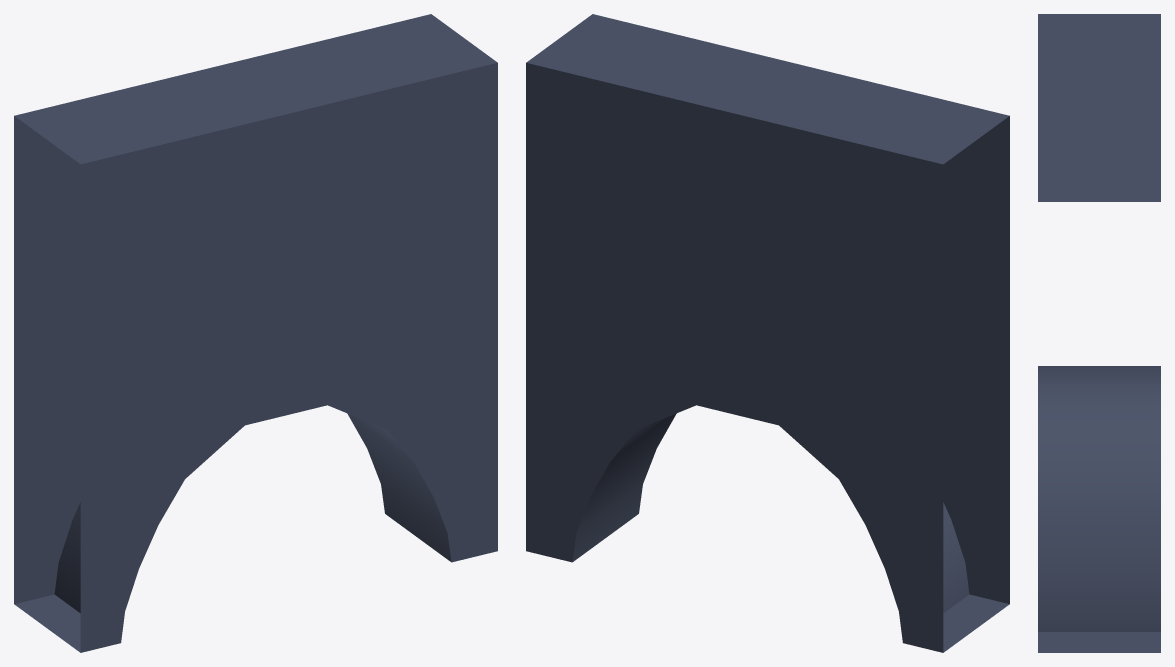
The model's file is Mur_modulaire.fbx.
3 views of the same model, side by side, from view 1: azimuth 30°, elevation 25°; view 2: azimuth 150°, elevation 25°; view 3: azimuth 270°, elevation 25° (orthographic). The views are drawn at different scales.
Parts seen in each view (by area): view 1: Mur_loop_export.001; view 2: Mur_loop_export.001; view 3: Mur_loop_export.001.
Part boxes in pixels (left/top/right/bottom): Mur_loop_export.001: left=14, top=14, right=497, bottom=652; Mur_loop_export.001: left=526, top=14, right=1009, bottom=652; Mur_loop_export.001: left=1038, top=14, right=1160, bottom=652.
Size of the model in its own units: 613 by 686 by 169.
